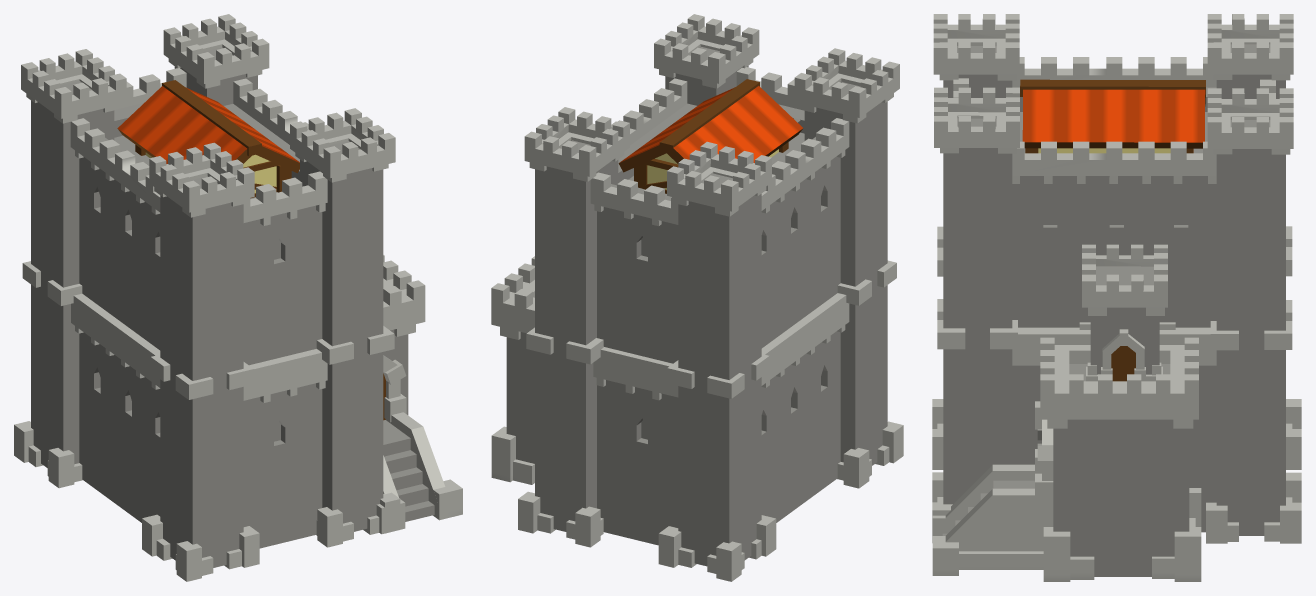
File: Keep.fbx
3 renders of one model, left to right at view 1: azimuth 30°, elevation 25°; view 2: azimuth 150°, elevation 25°; view 3: azimuth 270°, elevation 25°, orthographic. The views are drawn at different scales.
Parts seen in each view (by area): view 1: keep3:polySurface2; view 2: keep3:polySurface2; view 3: keep3:polySurface2.
Part boxes in pixels (x1,y1,x2,y2): keep3:polySurface2: (14,14,462,581); keep3:polySurface2: (491,14,903,581); keep3:polySurface2: (932,14,1301,581).
Bounding box in the file's own units: 247 × 321 × 256.
1 material, 1 textured.
